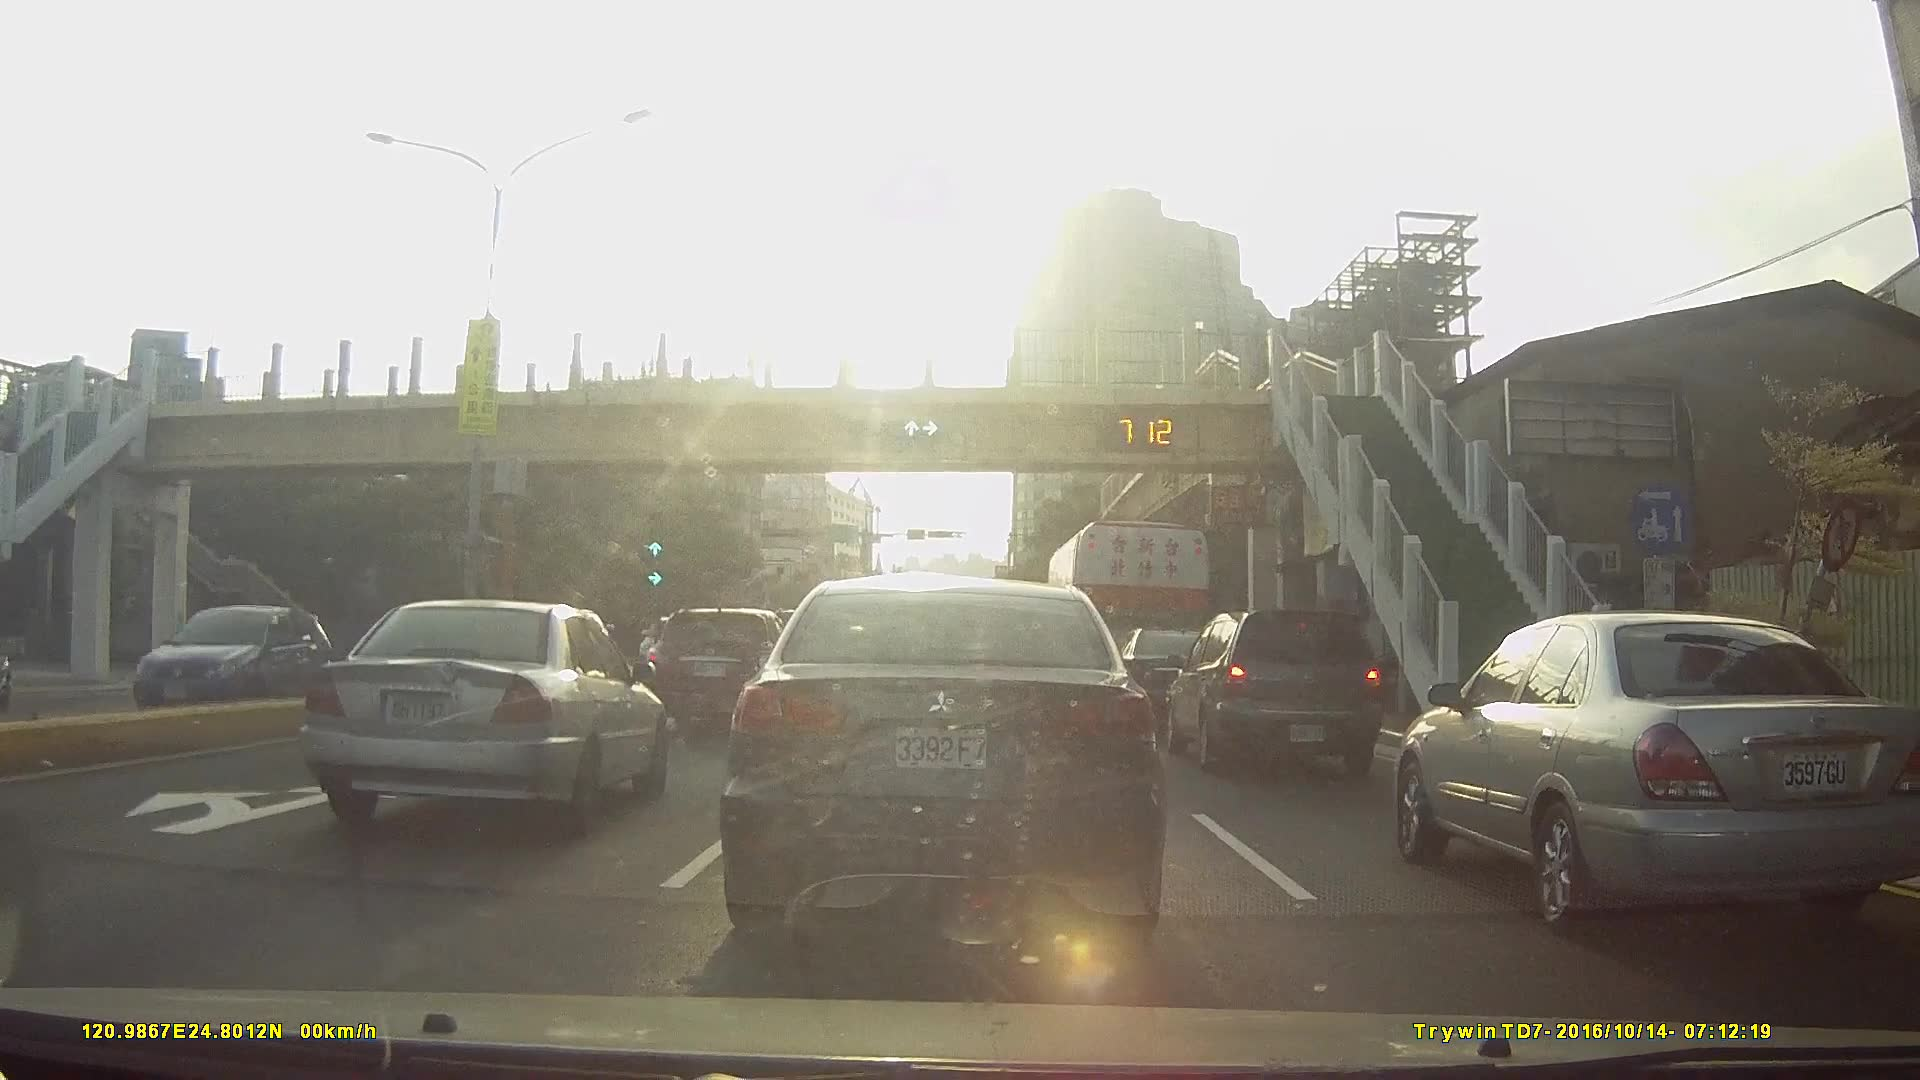rider: (1, 605, 21, 713)
vehicle: (717, 573, 1167, 962), (1394, 611, 1920, 936), (313, 597, 677, 818), (1163, 608, 1400, 780), (118, 603, 342, 718), (642, 607, 794, 726), (1114, 622, 1240, 728)
